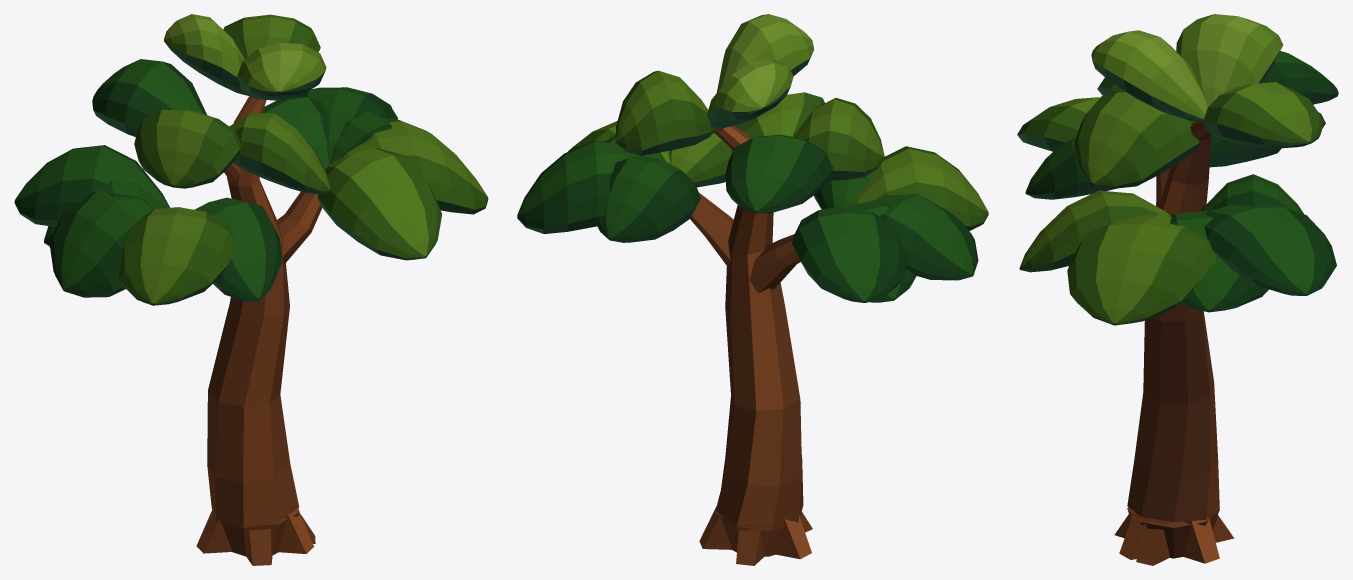
3 renders of one model, left to right at view 1: azimuth 30°, elevation 25°; view 2: azimuth 150°, elevation 25°; view 3: azimuth 270°, elevation 25°, orthographic.
Visible parts, largest first — view 1: CanopyLeaves, CanopyStructure; view 2: CanopyLeaves, CanopyStructure; view 3: CanopyLeaves, CanopyStructure.
Part boxes in pixels (box(x1,y1,x2,y2)): CanopyLeaves: box(14, 14, 488, 305); CanopyStructure: box(196, 96, 322, 565); CanopyLeaves: box(517, 14, 988, 302); CanopyStructure: box(690, 125, 812, 565); CanopyLeaves: box(1017, 14, 1338, 325); CanopyStructure: box(1114, 121, 1234, 565).
Size of the model in its own units: 3.7 by 4.4 by 2.5.
1 material, 1 textured.
